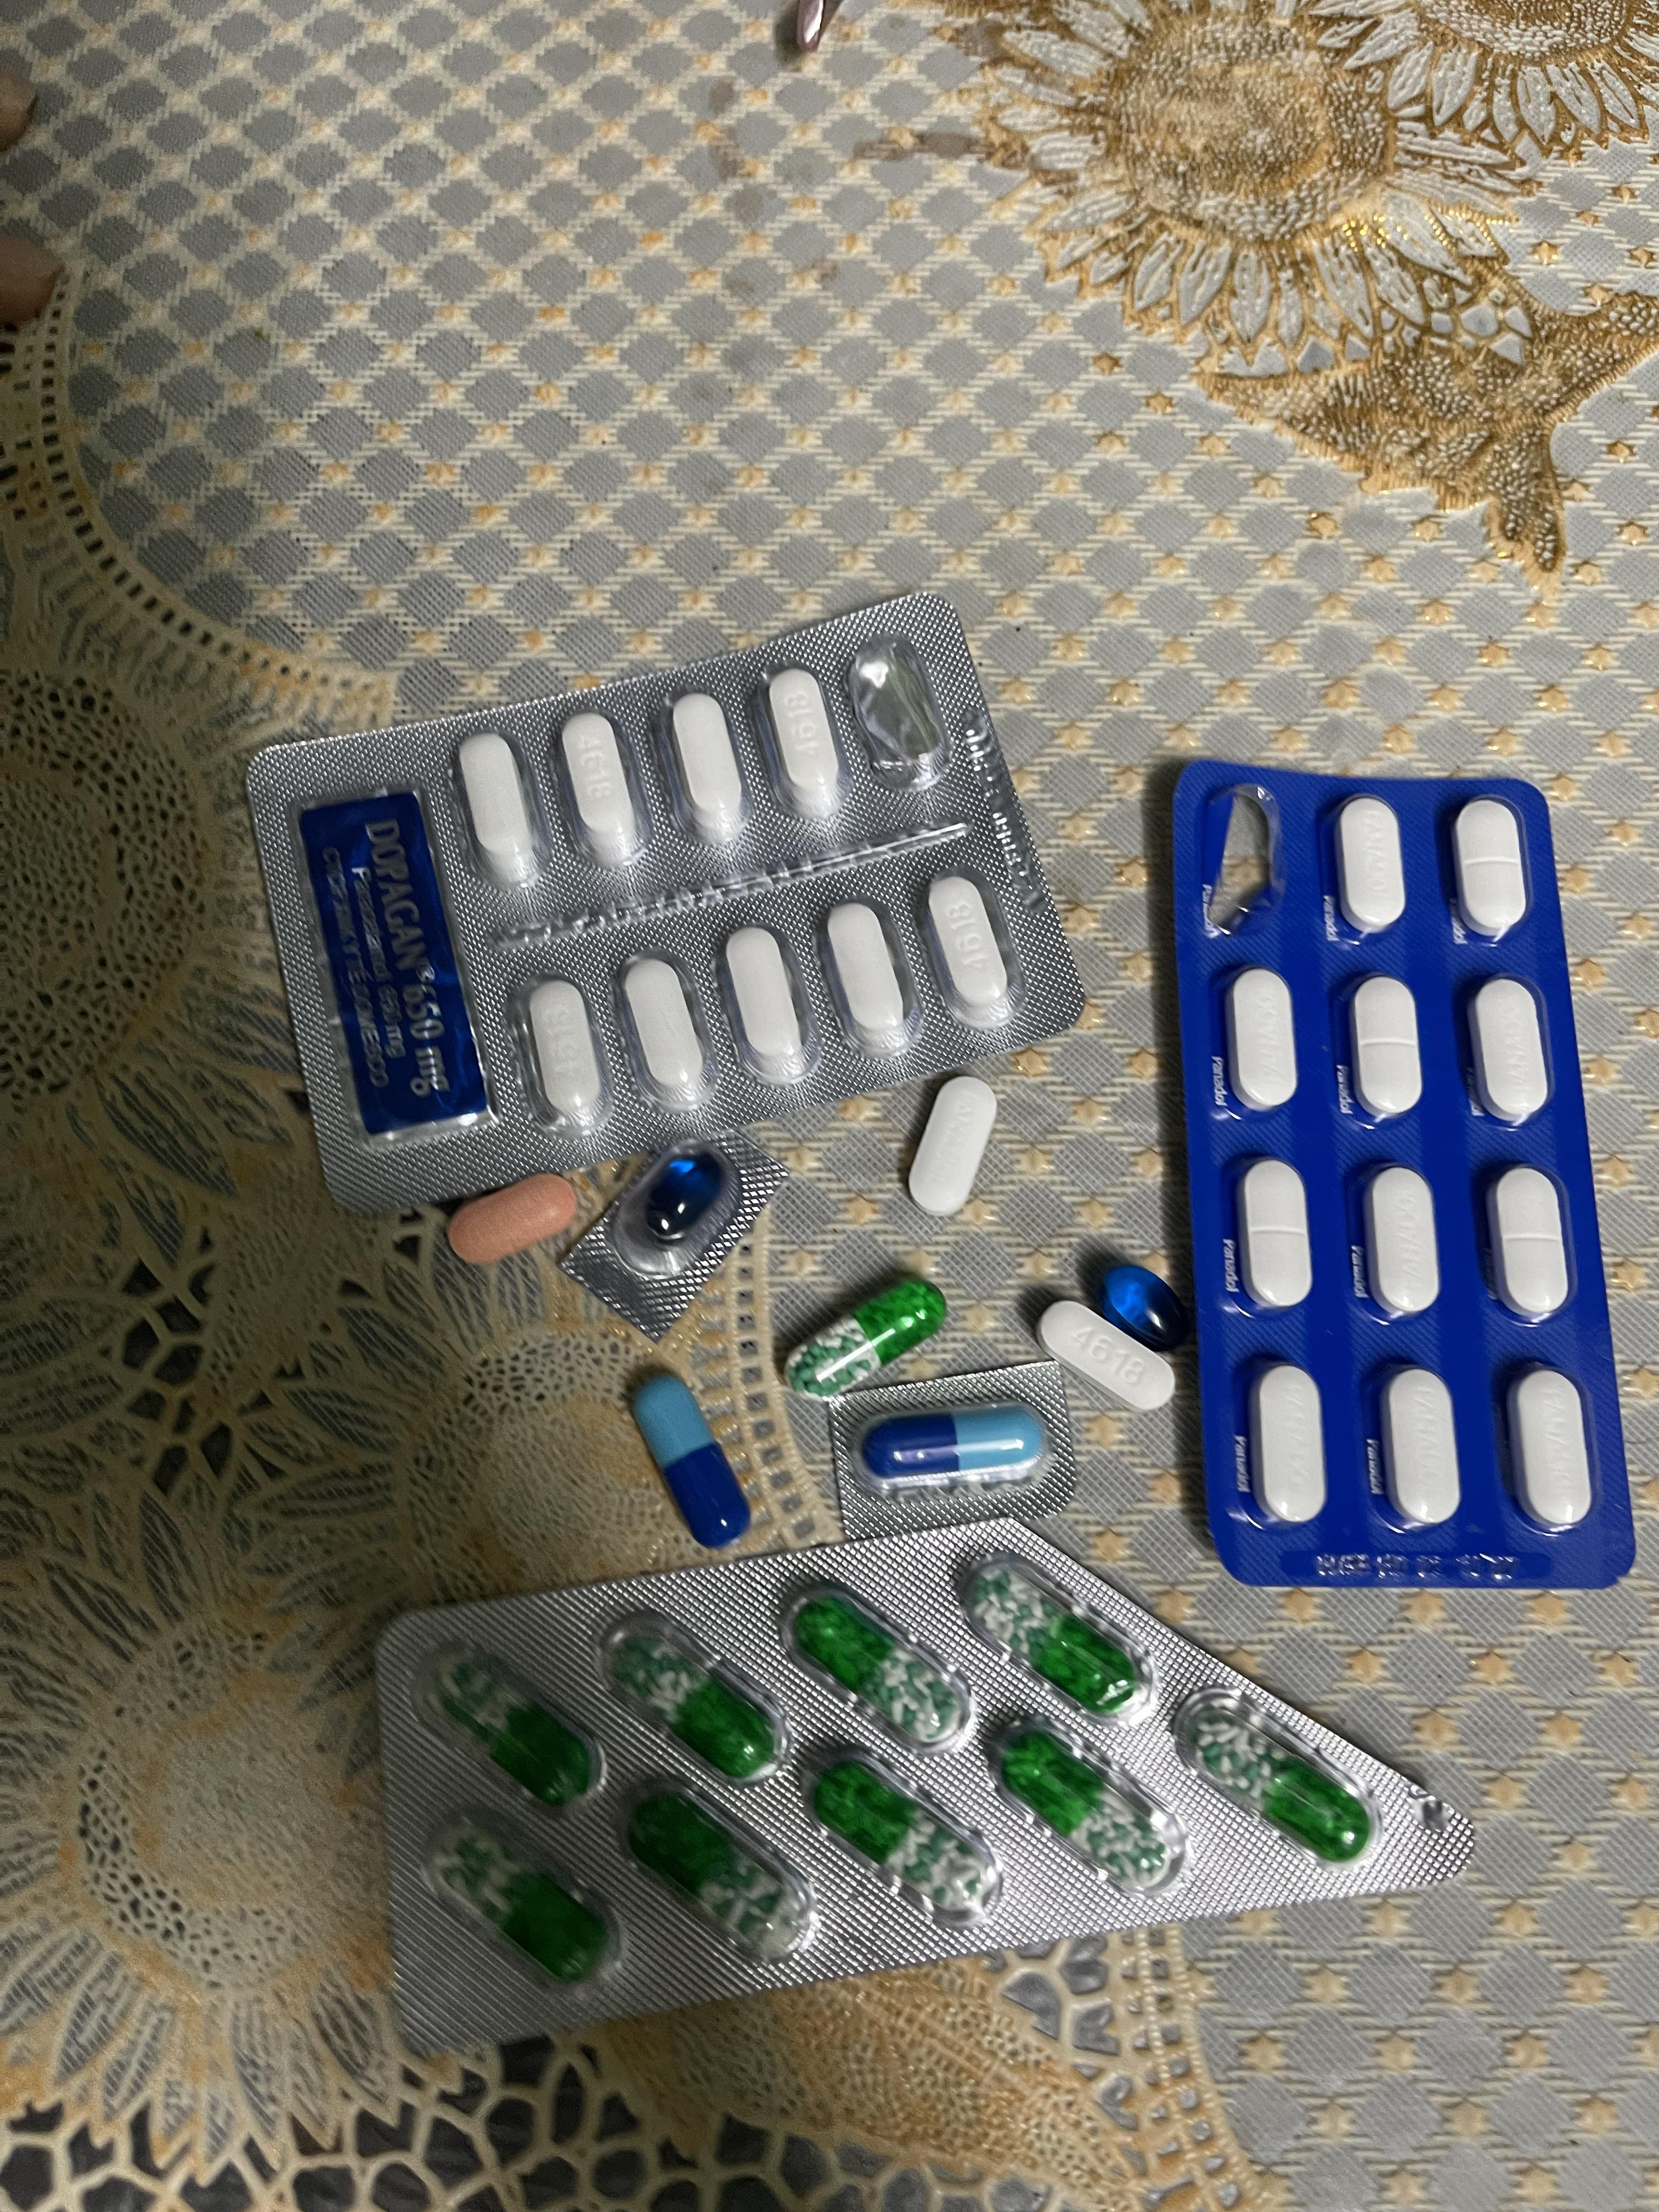Lincomyxin_500mg: (640, 1151, 728, 1242), (1101, 1264, 1187, 1352)
Loratadine_10mg: (448, 1170, 577, 1263)
Paracetamol_350mg: (904, 1075, 1004, 1219), (1507, 1369, 1593, 1533), (1380, 1367, 1464, 1531), (1486, 1165, 1572, 1318), (1251, 1364, 1328, 1529), (1363, 1165, 1443, 1317), (1467, 979, 1551, 1123), (1237, 1158, 1314, 1312), (1225, 965, 1300, 1113), (1351, 977, 1425, 1122), (1453, 799, 1528, 939), (1335, 796, 1406, 935)
Paracetamol_500mg: (1037, 1301, 1166, 1413), (925, 874, 1014, 1029), (457, 733, 544, 888), (824, 902, 911, 1055), (620, 956, 708, 1106), (723, 928, 807, 1083), (669, 693, 753, 846), (559, 712, 643, 866), (765, 671, 847, 824), (525, 981, 606, 1129)
Paracetamol_650mg: (805, 1742, 1007, 1923), (626, 1777, 821, 1961), (425, 1813, 619, 1986), (1185, 1691, 1366, 1874), (782, 1581, 976, 1747), (603, 1609, 788, 1780), (1002, 1716, 1180, 1892), (965, 1552, 1147, 1719), (416, 1644, 601, 1804), (779, 1275, 948, 1397)
pill: (629, 1372, 751, 1548), (854, 1406, 1047, 1498)
